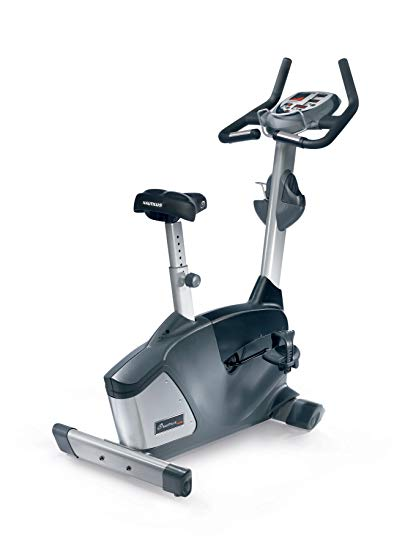gym_bike: (45, 56, 368, 499)
